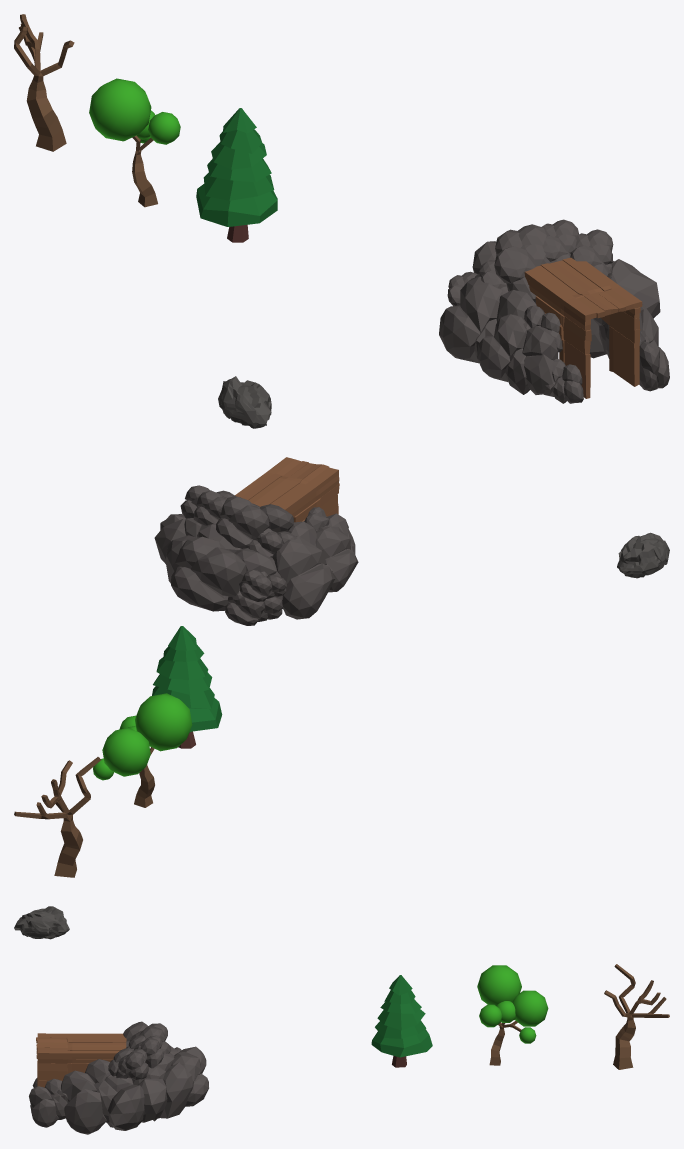
The model's file is lowPoModel.fbx.
3 renders of one model, top to bottom at view 1: azimuth 30°, elevation 25°; view 2: azimuth 150°, elevation 25°; view 3: azimuth 270°, elevation 25°, orthographic. The views are drawn at different scales.
Parts seen in each view (by area): view 1: Icosphere.010, tree, Icosphere, tree3, Icosphere.001, tree2; view 2: Icosphere.010, Icosphere, tree, tree3, Icosphere.001; view 3: Icosphere.010, Icosphere, tree, tree3, Icosphere.001, tree2.
Boxes of the visible parts, x1,y1,x2,y2 form: Icosphere.010: (439,219,669,403); tree: (196,108,277,226); Icosphere: (89,78,180,144); tree3: (14,14,74,151); Icosphere.001: (218,376,271,428); tree2: (132,135,157,207); Icosphere.010: (154,457,358,625); Icosphere: (93,693,192,780); tree: (152,626,222,732); tree3: (14,757,100,877); Icosphere.001: (617,532,669,578); Icosphere.010: (29,1021,208,1134); Icosphere: (477,965,548,1043); tree: (371,975,432,1057); tree3: (604,964,669,1069); Icosphere.001: (14,906,69,939); tree2: (489,1021,521,1065).
Bounding box in the file's own units: 727 × 206 × 1205.
